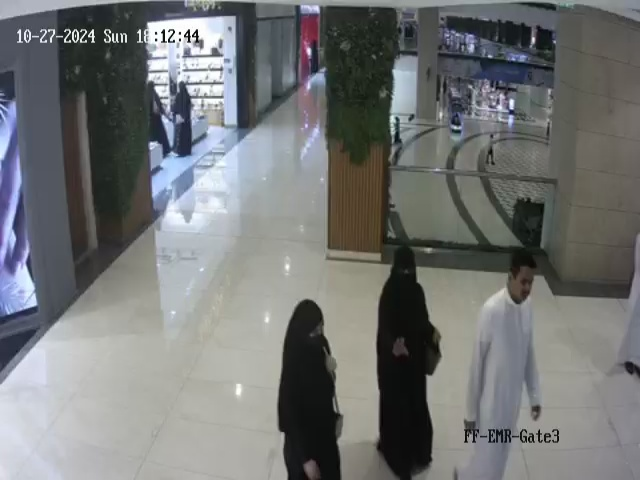female: (375, 244, 442, 480), (277, 298, 343, 480), (165, 62, 217, 170), (620, 234, 640, 381), (138, 70, 169, 164), (387, 98, 412, 164)
male: (453, 251, 543, 480), (473, 122, 510, 181)
